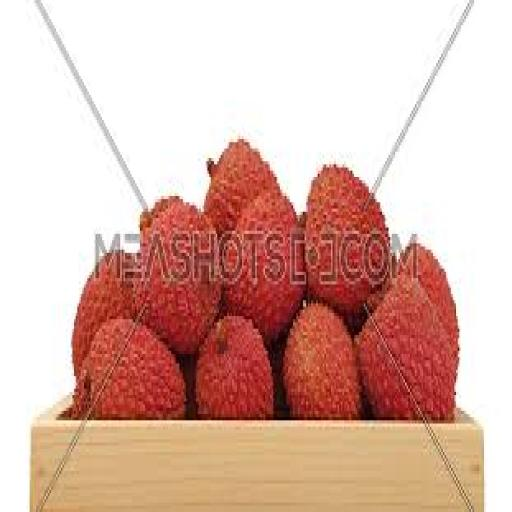lychee: (356, 275, 456, 420), (135, 196, 220, 353), (307, 165, 390, 316), (223, 193, 306, 344), (73, 320, 184, 420), (284, 304, 360, 420), (196, 317, 273, 420), (73, 250, 134, 376), (205, 140, 279, 237)
